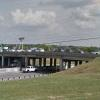Bridge: (3, 35, 89, 67)
